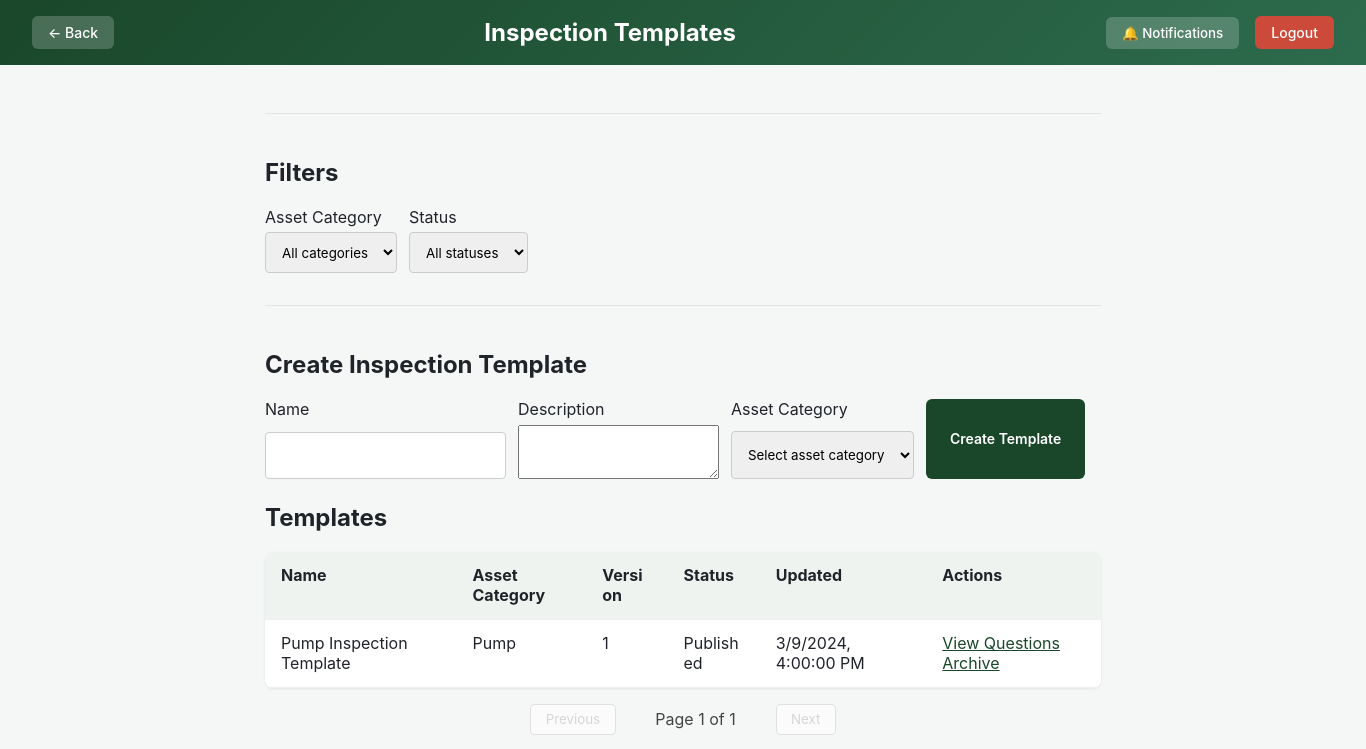
Test: InspectionTemplatesPage › archives published template when archive action is confirmed
Expected: the text "Pump Inspection Template" is shown, [265,619,456,687]
Click the button "Archive" at (971, 663), box [942,653,1000,673]
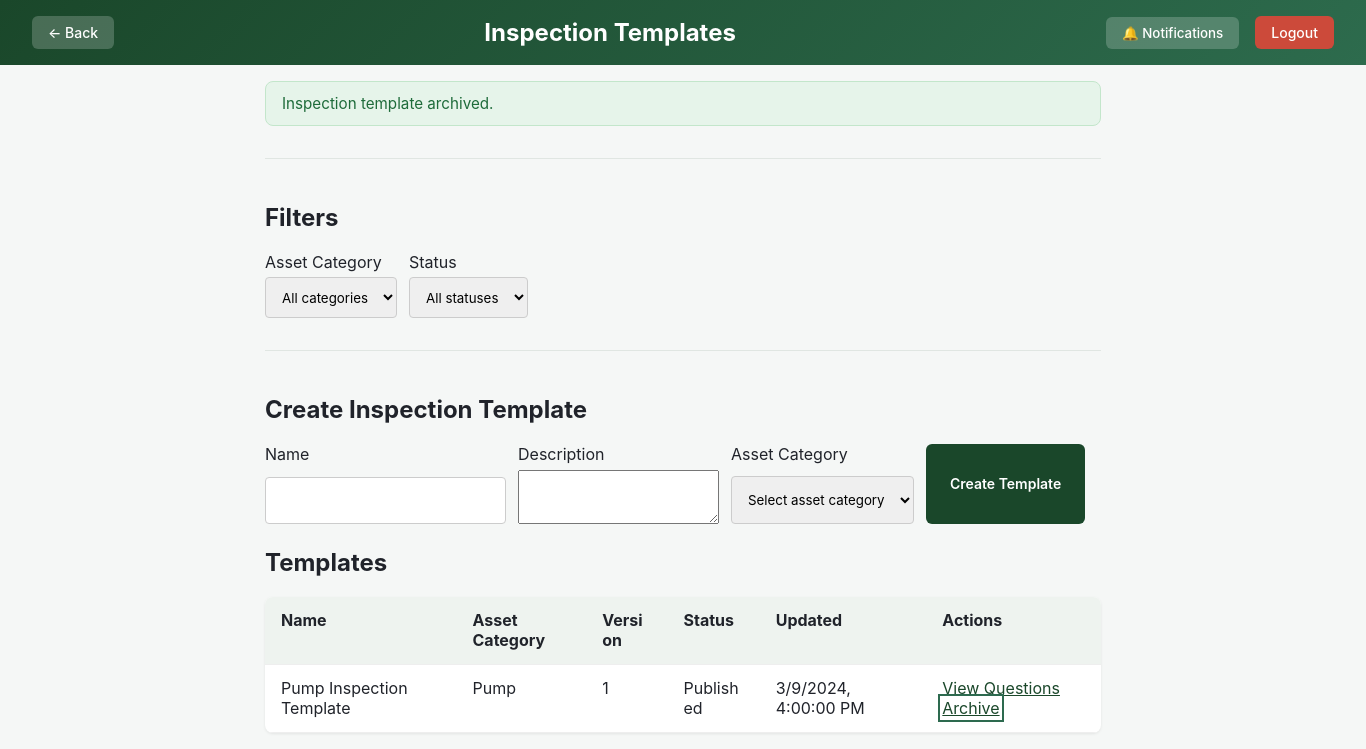
Expected: the text "Inspection template archived." is shown, [265,81,1101,126]
